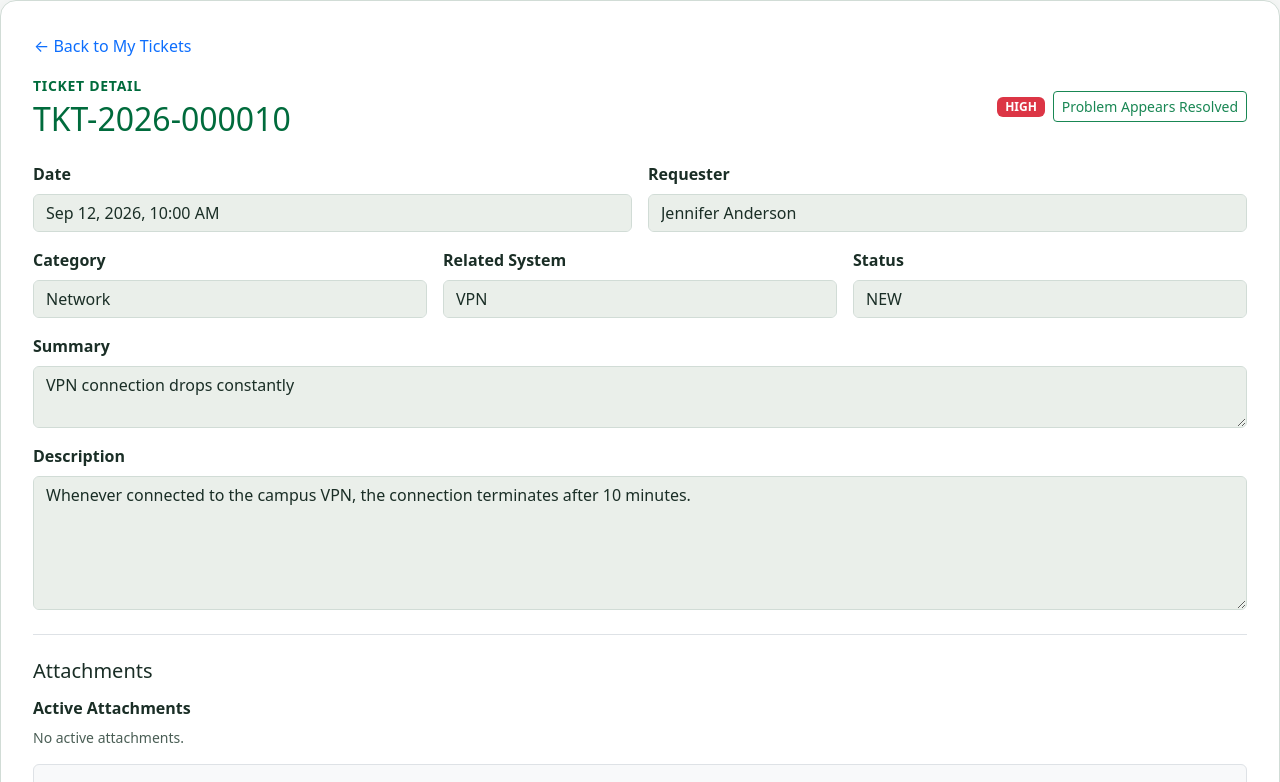
Test: Work Item 4: Requester Continuity & Interactive Capabilities › renders 'Problem Appears Resolved' action and updates state when clicked (AC-09, BR-16)
Click the button "Problem Appears Resolved": (1150, 107) [1053,91,1247,122]
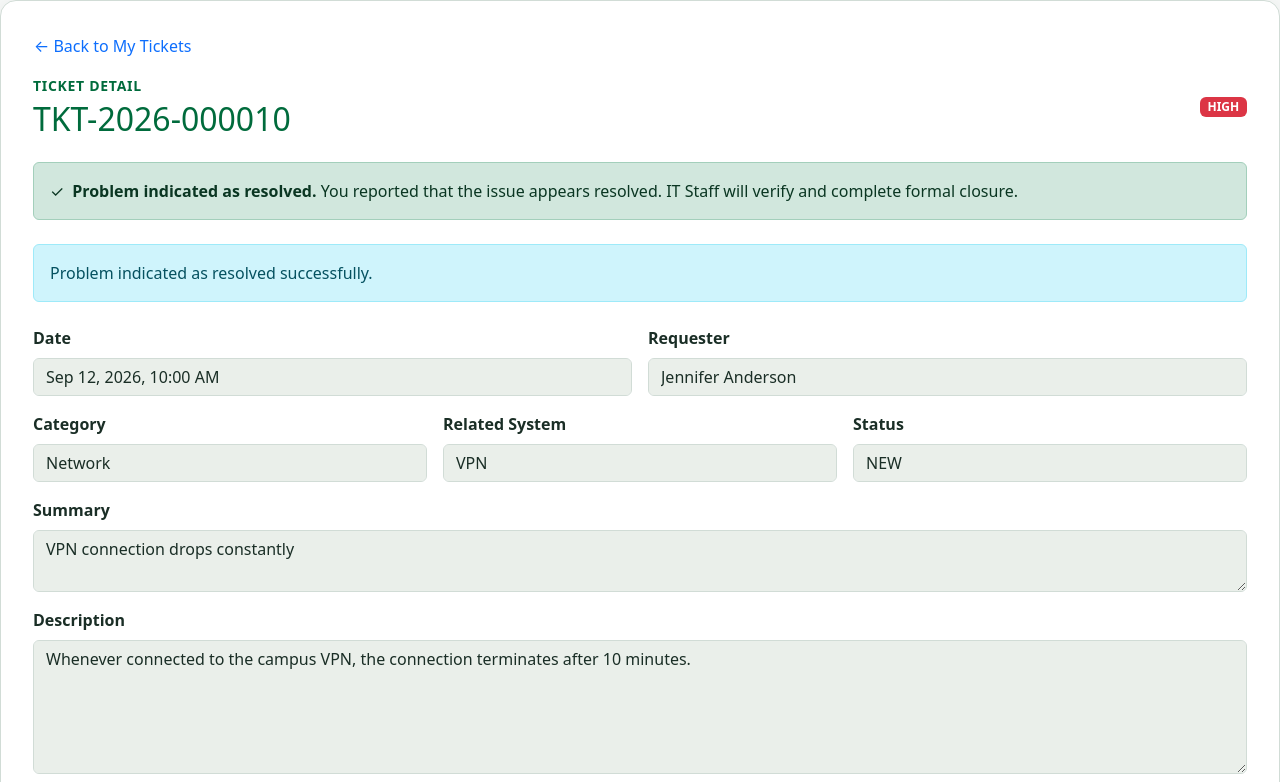
Now the text "Problem indicated as resolved." is shown, box [72,180,317,202]
Now the button "Problem Appears Resolved" is gone
